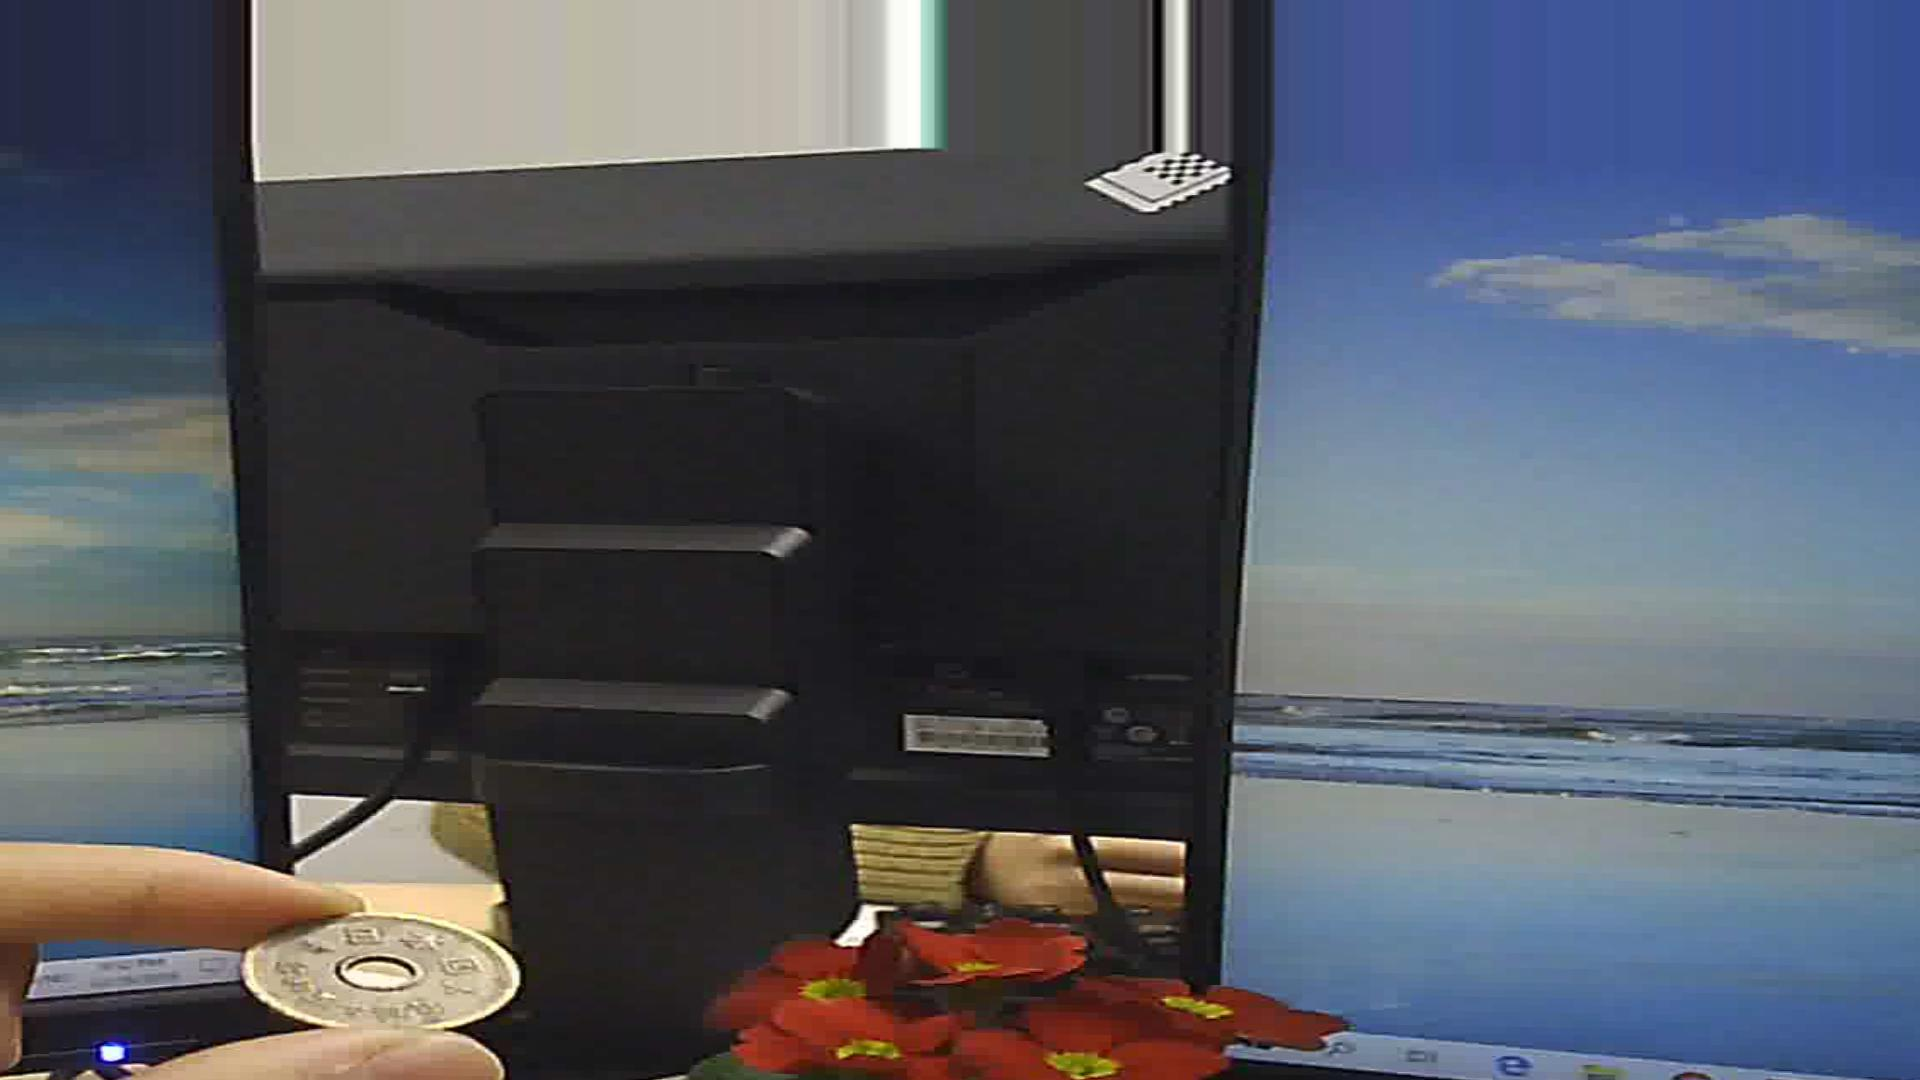5 Yen: (243, 903, 517, 1044)
